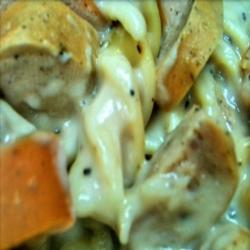carbonara: (28, 22, 224, 228)
